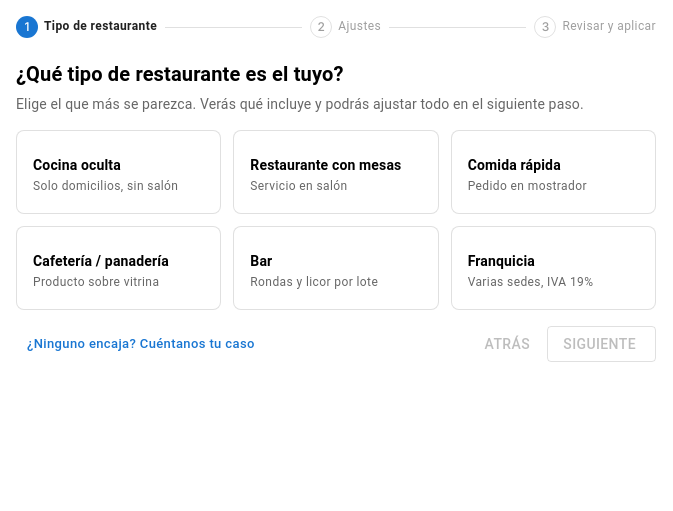
Paso 1 — Arquetipo › al seleccionar un arquetipo muestra el panel "qué incluye" y habilita Siguiente
Step 1. Click the text "Restaurante con mesas" → (336, 165), box left=250, top=155, right=422, bottom=175
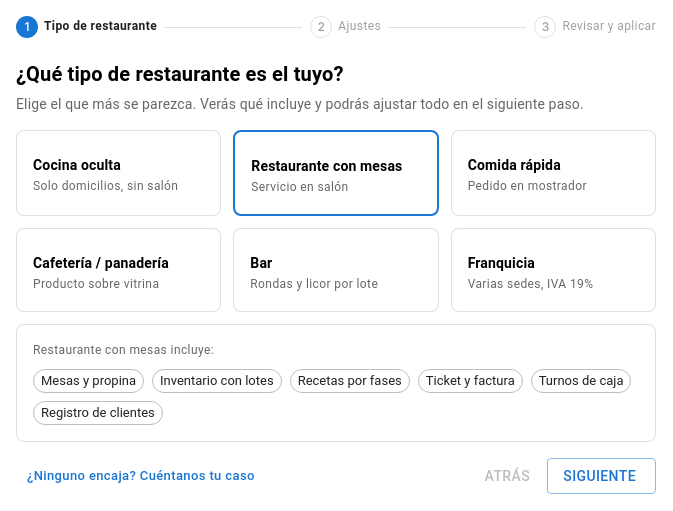
Check: the text "Restaurante con mesas incluye:" is shown, box left=33, top=343, right=214, bottom=357
Check: the text "Mesas y propina" is shown, box left=34, top=371, right=143, bottom=390
Check: the button "Siguiente" is enabled, box left=547, top=458, right=656, bottom=494
